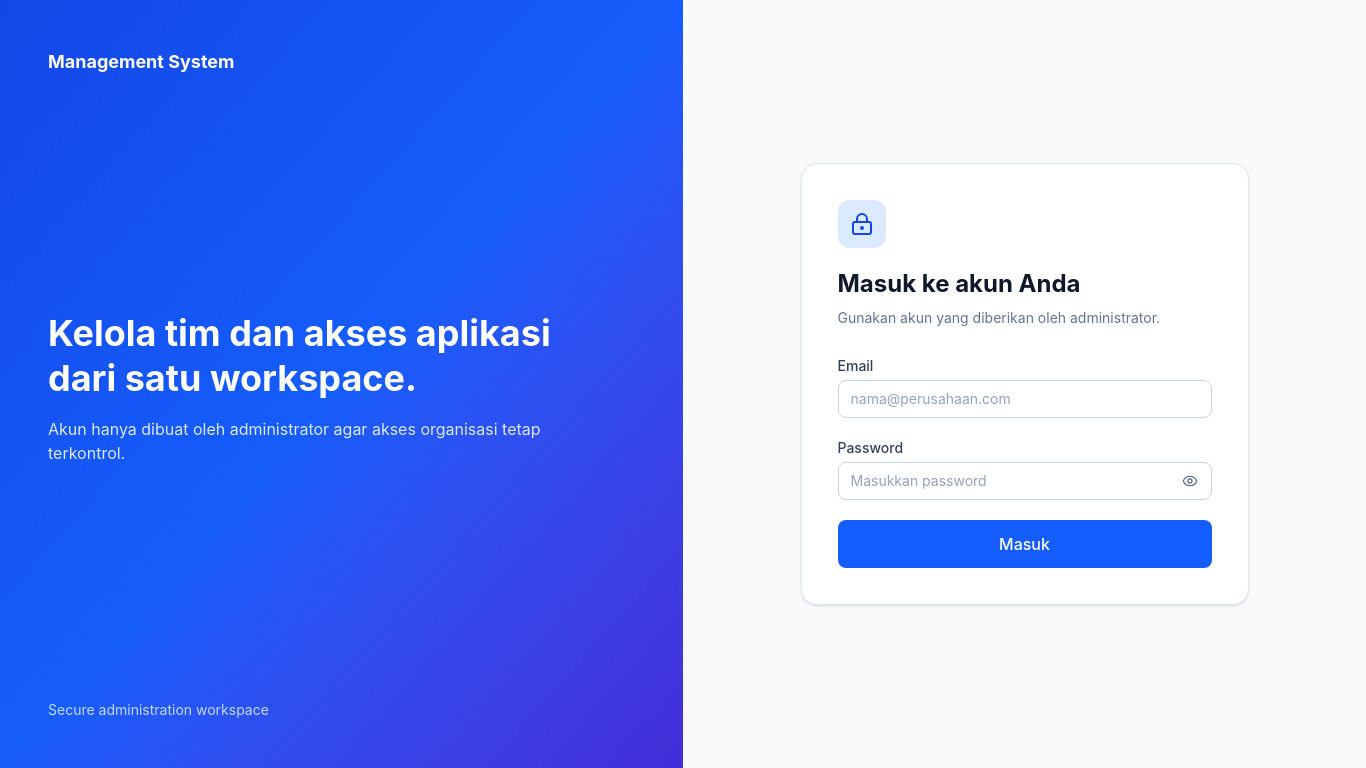
Test case: LoginPage › distinguishes an unreachable backend from invalid credentials
Type "admin@example.com" into the field labelled "Email" at (1024, 399), box [838,380,1212,418]
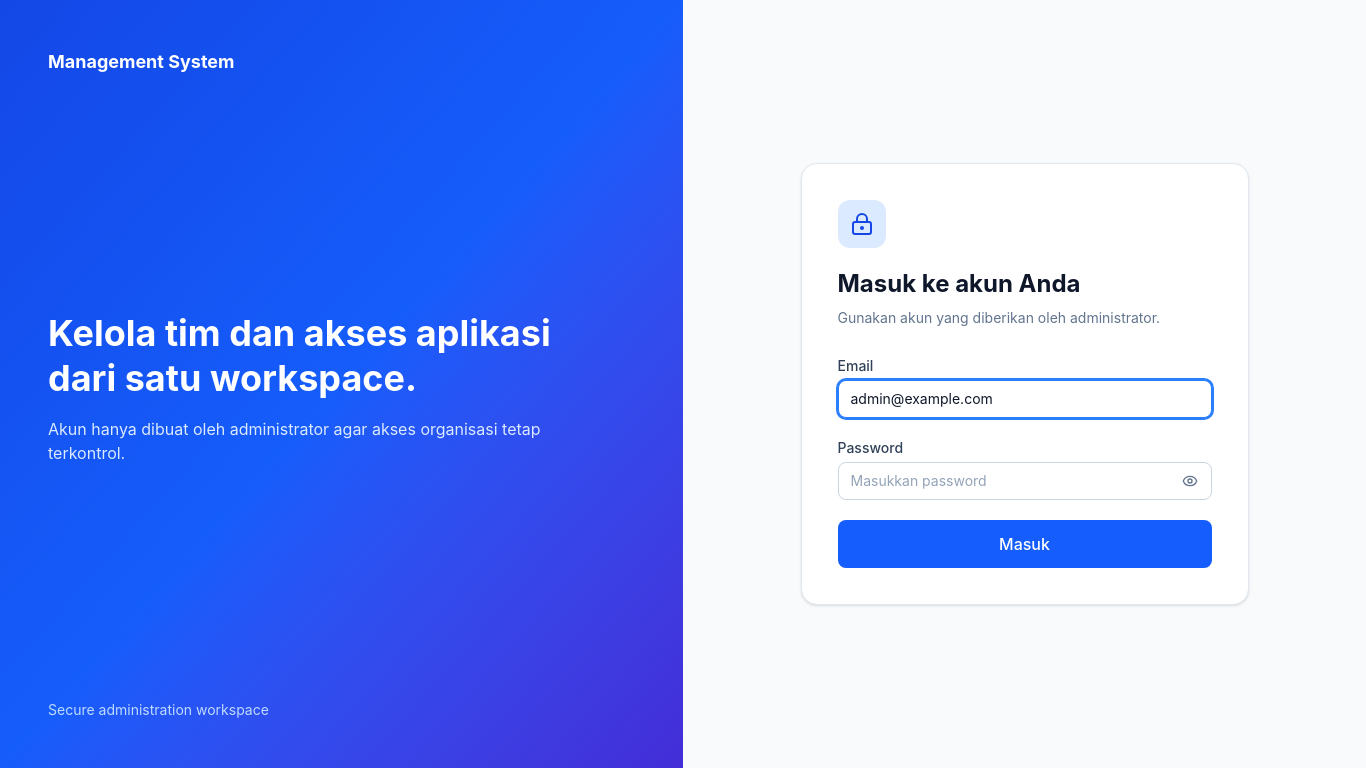
Type "Admin12345" into the password field labelled "Password" at (1024, 481), box [838,462,1212,500]
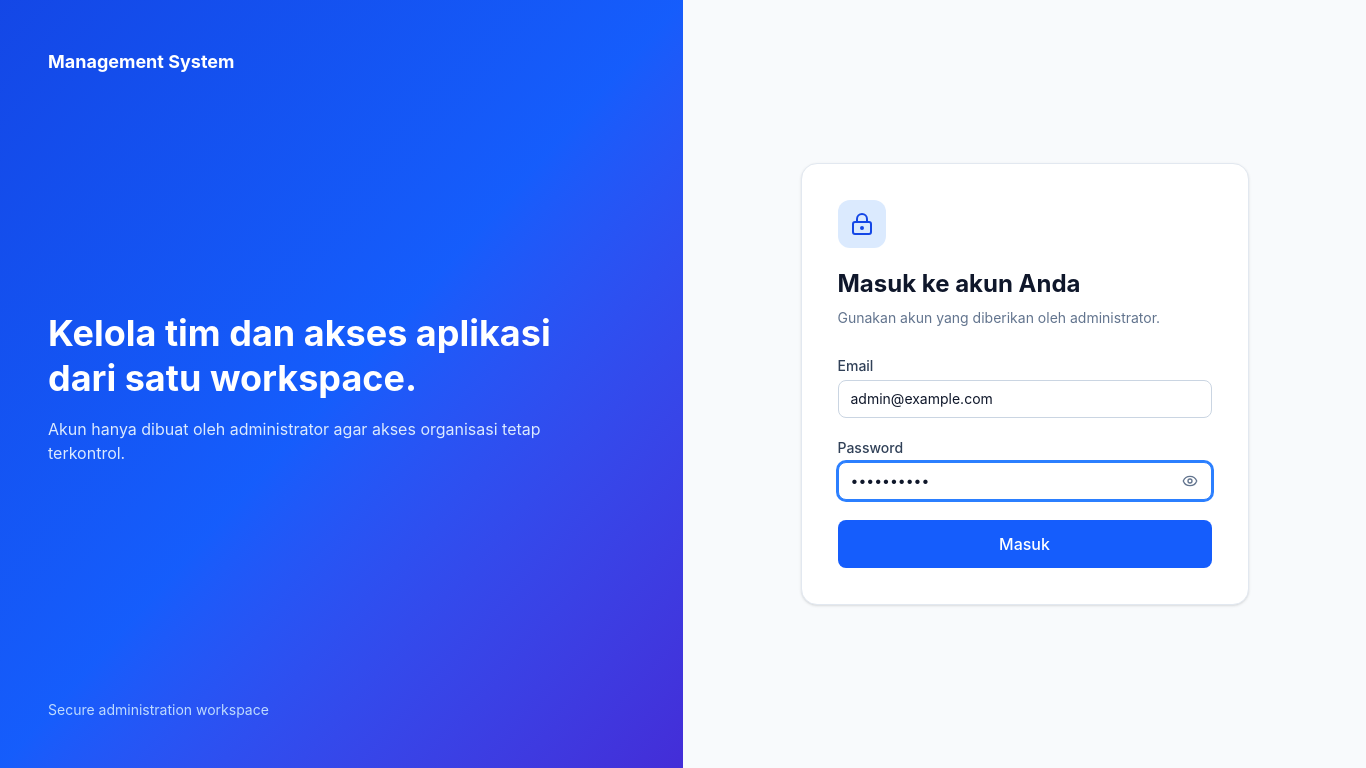
Click the button "Masuk" at (1024, 544), box [838,520,1212,568]
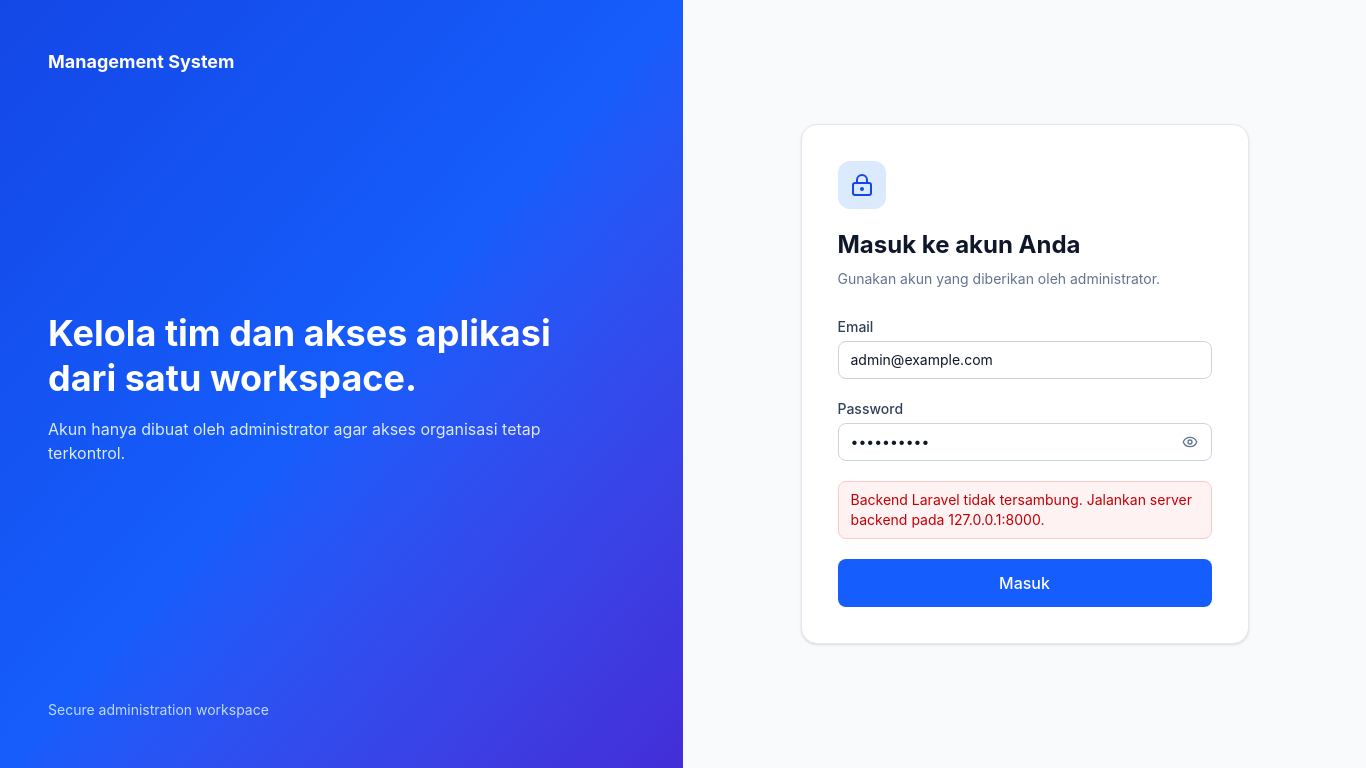
Result: the message shows "Backend Laravel tidak tersambung" at [850,491,1192,528]
